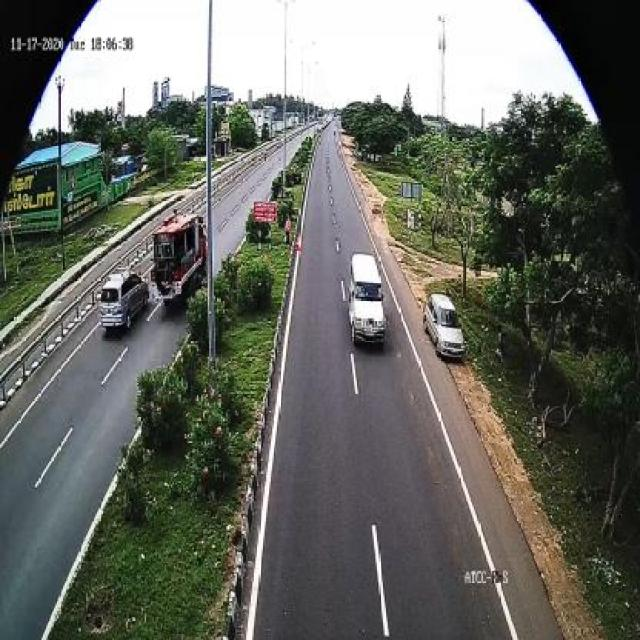car: (348, 251, 389, 355), (96, 274, 144, 337), (428, 295, 462, 360)
